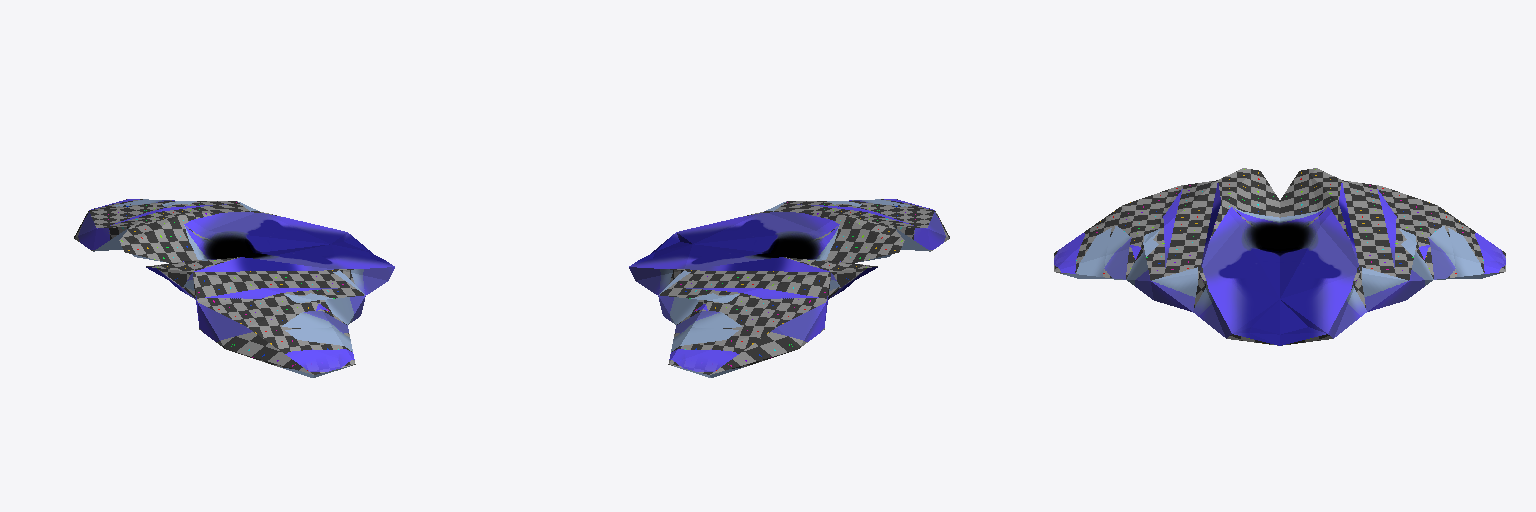
3 renders of one model, left to right at view 1: azimuth 30°, elevation 25°; view 2: azimuth 150°, elevation 25°; view 3: azimuth 270°, elevation 25°, orthographic.
Visible parts, largest first — view 1: Cube; view 2: Cube; view 3: Cube.
Part boxes in pixels (x1,y1,x2,y2): Cube: (74,199,394,377); Cube: (629,199,949,377); Cube: (1054,168,1505,345).
Size of the model in its own units: 6.11 by 1.5 by 9.87.
Materials: 1 (1 with a texture image).